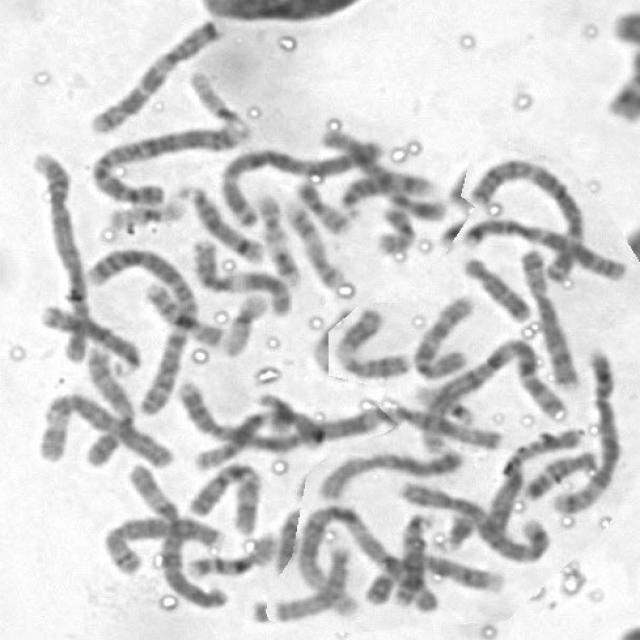A1: (414, 332, 573, 458), (290, 501, 438, 621)
A2: (84, 239, 202, 419), (82, 115, 252, 207)
A3: (463, 151, 589, 285), (216, 133, 387, 227)
B4: (172, 374, 384, 452), (25, 146, 95, 367)
B5: (391, 474, 551, 564), (550, 344, 626, 516)
C10: (183, 455, 264, 537), (407, 288, 478, 381)
C11: (184, 232, 294, 318), (327, 302, 414, 381)
C12: (314, 123, 448, 222), (194, 397, 296, 472)
C6: (119, 456, 229, 611), (35, 388, 178, 471)
C7: (82, 12, 226, 136), (454, 213, 630, 282)
C8: (512, 242, 580, 392), (100, 509, 226, 576)
C9: (358, 546, 510, 608), (80, 341, 137, 467)
D13: (34, 299, 143, 376), (387, 506, 436, 611)
D14: (170, 178, 266, 265), (331, 163, 440, 220)
D15: (268, 540, 354, 624), (388, 506, 437, 611)
E16: (138, 276, 228, 348), (182, 527, 283, 580)
E17: (280, 194, 350, 290), (251, 188, 304, 286)
E18: (455, 250, 534, 324), (518, 445, 598, 502)
F19: (216, 287, 270, 357), (104, 193, 188, 230)
F20: (288, 173, 353, 236), (370, 198, 418, 256)
G21: (250, 386, 296, 434), (432, 507, 479, 552)
G22: (183, 65, 246, 128), (407, 381, 478, 426)
X: (480, 422, 589, 534), (311, 443, 466, 502)
